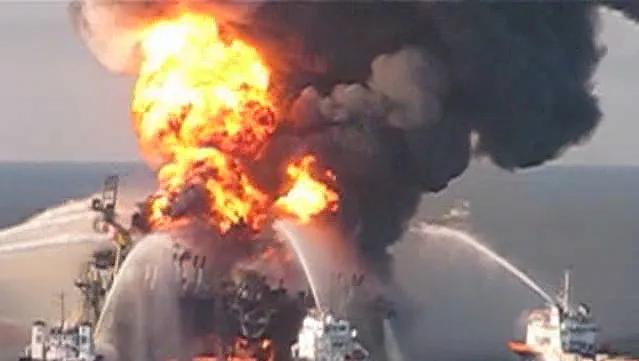fire: (88, 6, 323, 235)
